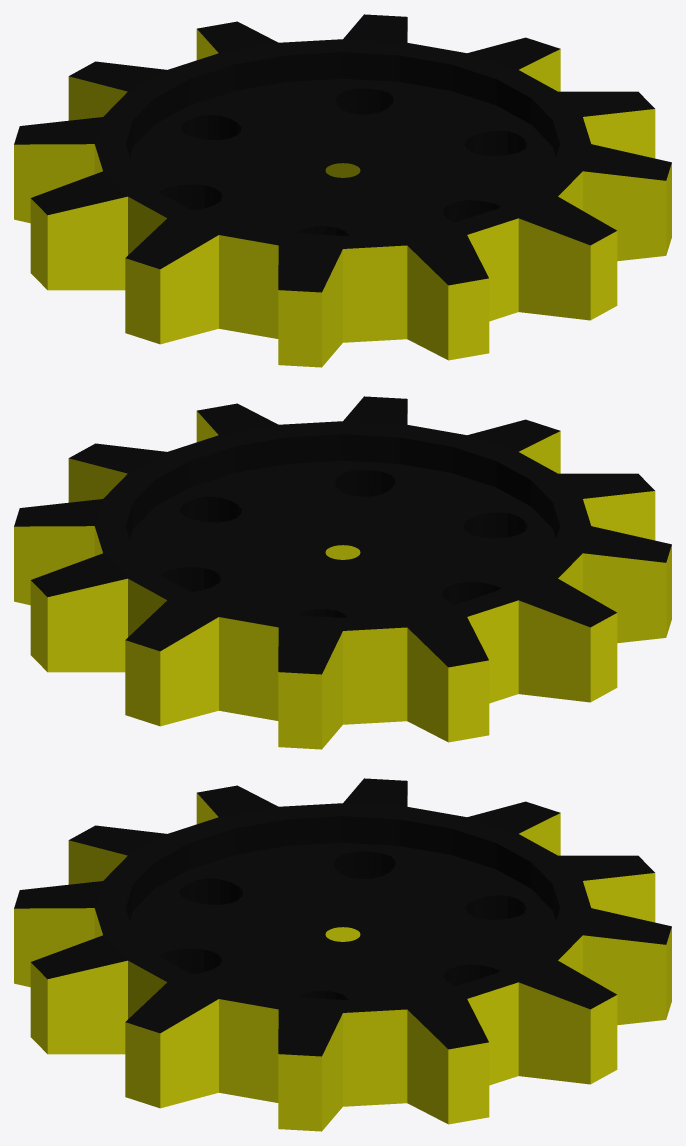
Rendered from D1.2GearV3.fbx.
The picture shows the model from 3 angles, top to bottom: view 1: azimuth 30°, elevation 25°; view 2: azimuth 150°, elevation 25°; view 3: azimuth 270°, elevation 25°; orthographic projection.
Parts seen in each view (by area): view 1: D1_2GearV3; view 2: D1_2GearV3; view 3: D1_2GearV3.
Part boxes in pixels (left/top/right/bottom): D1_2GearV3: left=14, top=14, right=671, bottom=367; D1_2GearV3: left=14, top=396, right=671, bottom=749; D1_2GearV3: left=14, top=778, right=671, bottom=1131.
Size of the model in its own units: 3.18 by 0.5 by 3.18.
